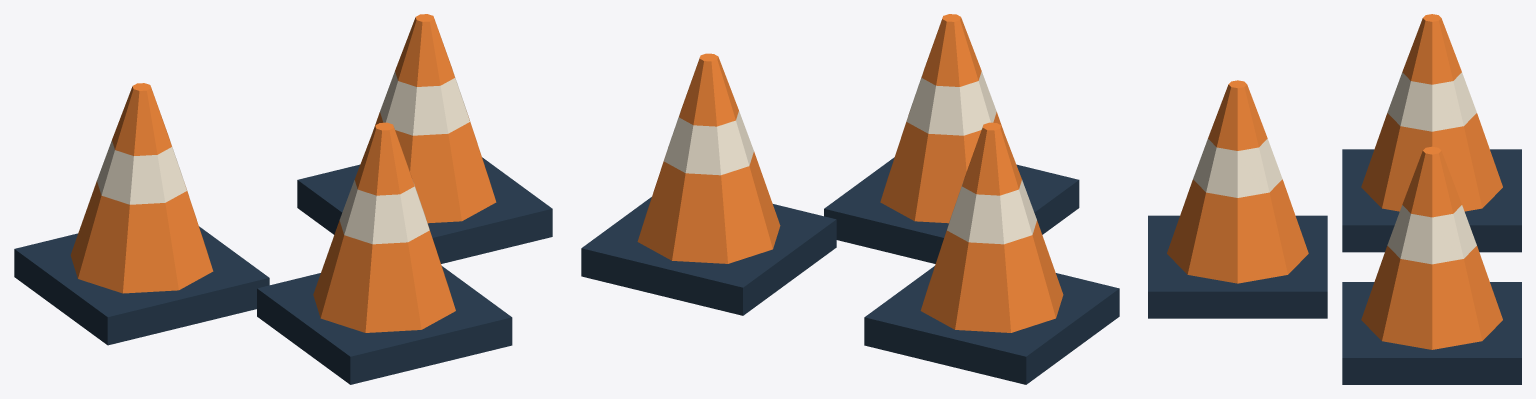
Rendered from 24_cone_cluster.obj.
3 renders of one model, left to right at view 1: azimuth 30°, elevation 25°; view 2: azimuth 150°, elevation 25°; view 3: azimuth 270°, elevation 25°, orthographic. The views are drawn at different scales.
Visible parts, largest first — view 1: part_8, part_0, part_9, part_1, part_4, part_5, part_2, part_10, part_6, part_11, part_7, part_3; view 2: part_0, part_4, part_5, part_1, part_8, part_9, part_2, part_6, part_10, part_7, part_3, part_11; view 3: part_8, part_4, part_9, part_5, part_1, part_0, part_2, part_10, part_6, part_7, part_3, part_11.
Part boxes in pixels (bbox=[...]): part_8: bbox=[257, 266, 512, 384]; part_0: bbox=[14, 226, 269, 345]; part_9: bbox=[313, 220, 455, 332]; part_1: bbox=[70, 181, 213, 293]; part_4: bbox=[297, 157, 552, 263]; part_5: bbox=[373, 112, 496, 223]; part_2: bbox=[97, 140, 186, 204]; part_10: bbox=[339, 180, 429, 244]; part_6: bbox=[380, 71, 469, 135]; part_11: bbox=[354, 122, 414, 195]; part_7: bbox=[395, 14, 454, 86]; part_3: bbox=[112, 83, 171, 155]; part_0: bbox=[864, 266, 1119, 384]; part_4: bbox=[581, 197, 836, 315]; part_5: bbox=[637, 151, 780, 263]; part_1: bbox=[920, 220, 1063, 332]; part_8: bbox=[824, 157, 1079, 263]; part_9: bbox=[880, 112, 1002, 223]; part_2: bbox=[947, 180, 1036, 244]; part_6: bbox=[664, 111, 753, 175]; part_10: bbox=[906, 71, 996, 135]; part_7: bbox=[679, 53, 738, 126]; part_3: bbox=[962, 122, 1021, 195]; part_11: bbox=[921, 14, 981, 86]; part_8: bbox=[1148, 215, 1327, 318]; part_4: bbox=[1342, 282, 1521, 384]; part_9: bbox=[1167, 179, 1308, 283]; part_5: bbox=[1361, 246, 1502, 349]; part_1: bbox=[1361, 113, 1502, 211]; part_0: bbox=[1342, 149, 1521, 252]; part_2: bbox=[1387, 72, 1476, 131]; part_10: bbox=[1193, 138, 1282, 197]; part_6: bbox=[1387, 205, 1476, 264]; part_7: bbox=[1402, 146, 1461, 217]; part_3: bbox=[1402, 14, 1461, 84]; part_11: bbox=[1208, 80, 1267, 150].
Size of the model in its own units: 1.32 by 0.58 by 1.
